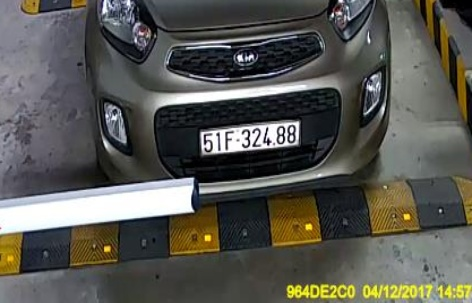plate: (194, 121, 311, 157)
